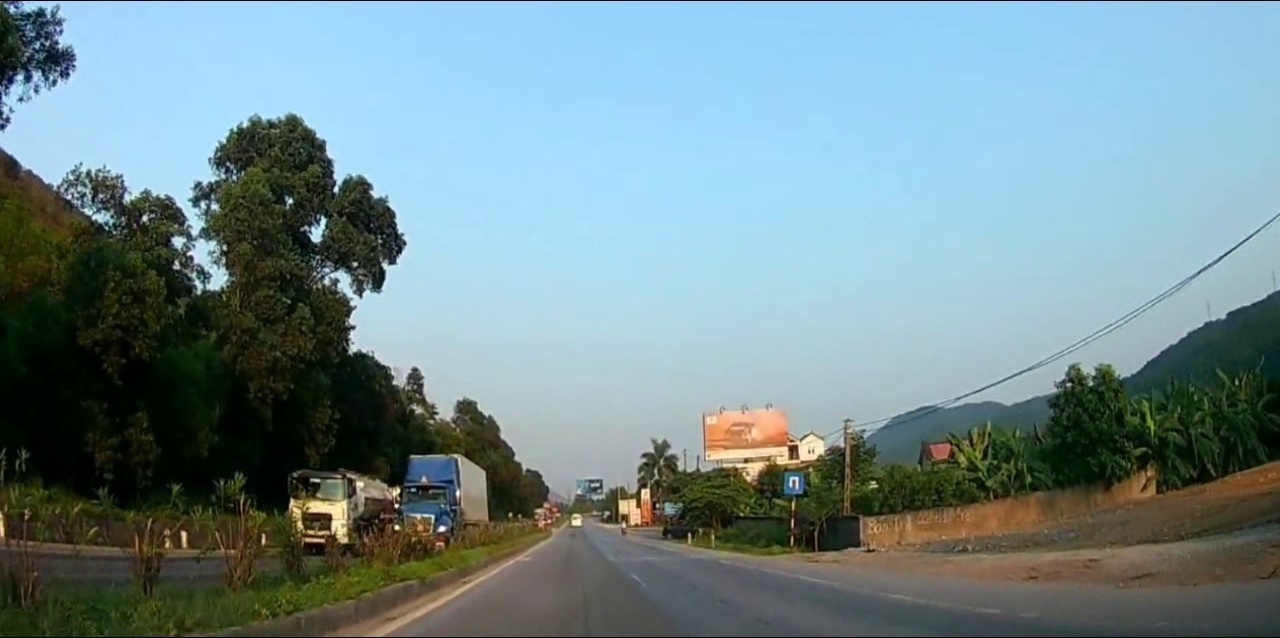Bien khac: (783, 468, 805, 493)
